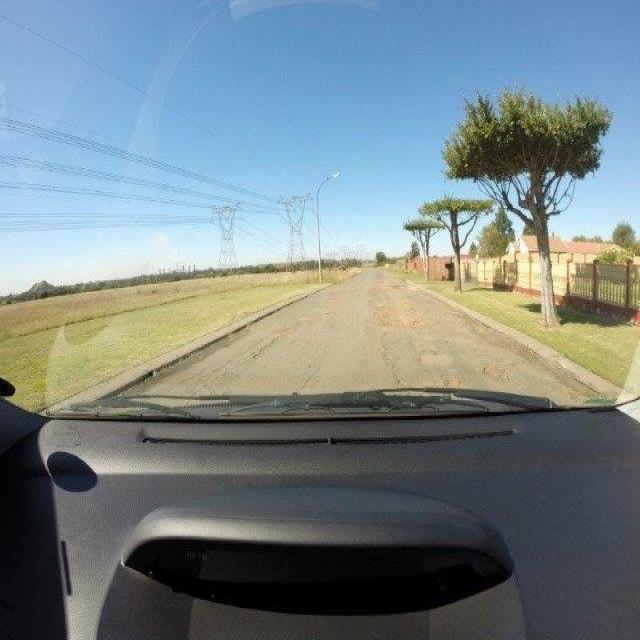jalan retak: (247, 323, 301, 360)
lubang: (478, 359, 507, 384), (438, 371, 469, 387)
